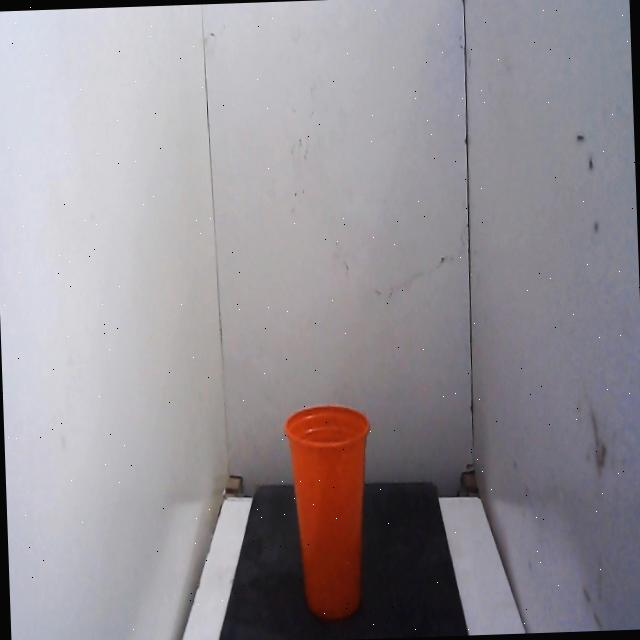plastico: (278, 392, 383, 630)
